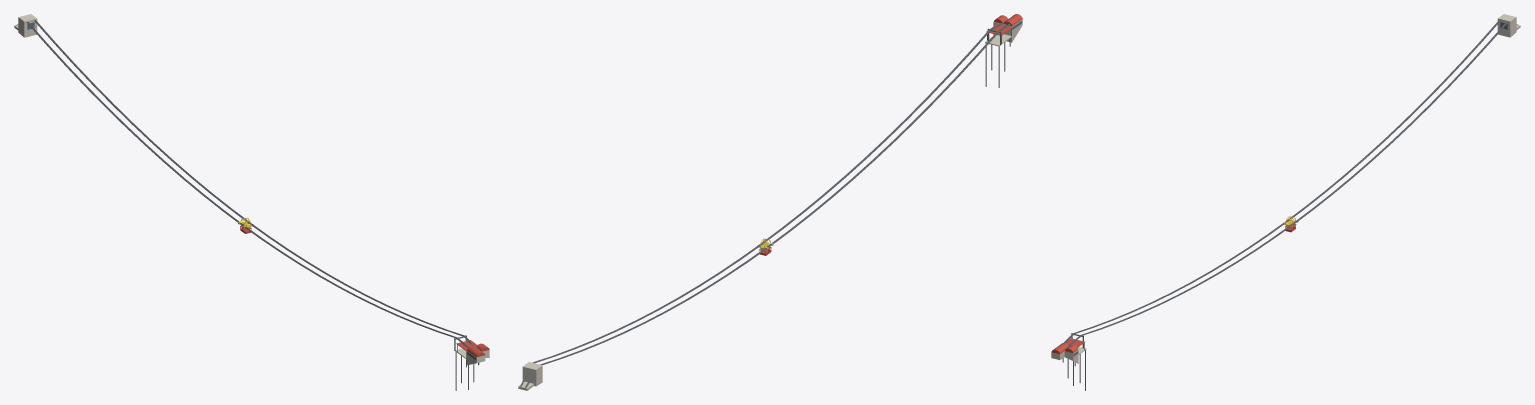
Rendered from niagara-whirlpool-aero-car.glb.
The picture shows the model from 3 angles, left to right: view 1: azimuth 30°, elevation 25°; view 2: azimuth 150°, elevation 25°; view 3: azimuth 330°, elevation 25°; orthographic projection. The views are drawn at different scales.
Parts seen in each view (by area): view 1: Whirlpool Aero Car; view 2: Whirlpool Aero Car; view 3: Whirlpool Aero Car.
Part boxes in pixels (x1,y1,x2,y2): Whirlpool Aero Car: [14, 14, 489, 390]; Whirlpool Aero Car: [518, 14, 1022, 390]; Whirlpool Aero Car: [1051, 14, 1520, 390].
Bounding box in the file's own units: 13.32 × 38.38 × 564.
